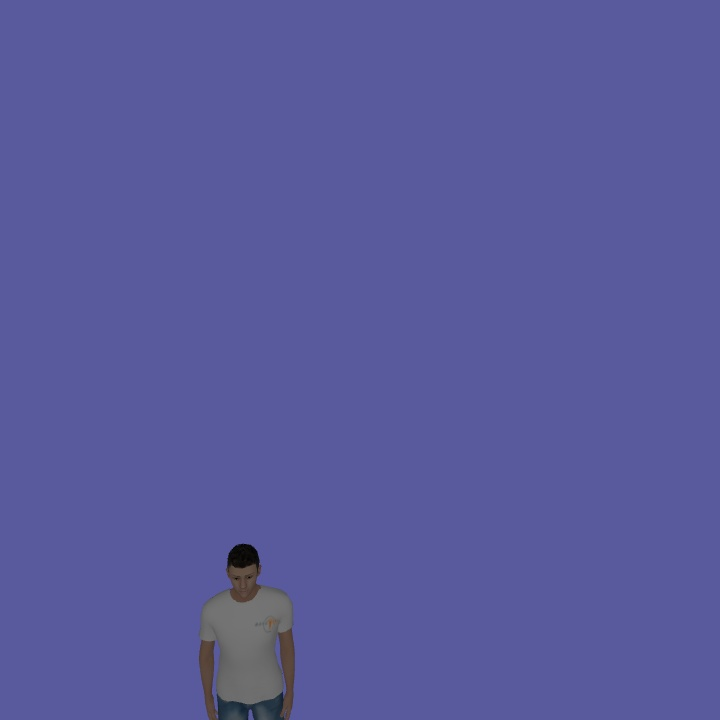victim: (194, 536, 297, 713)
